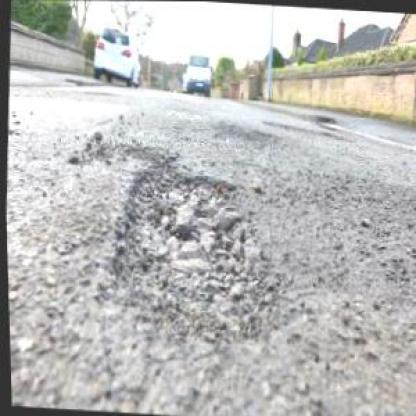pothole: (92, 148, 286, 342)
